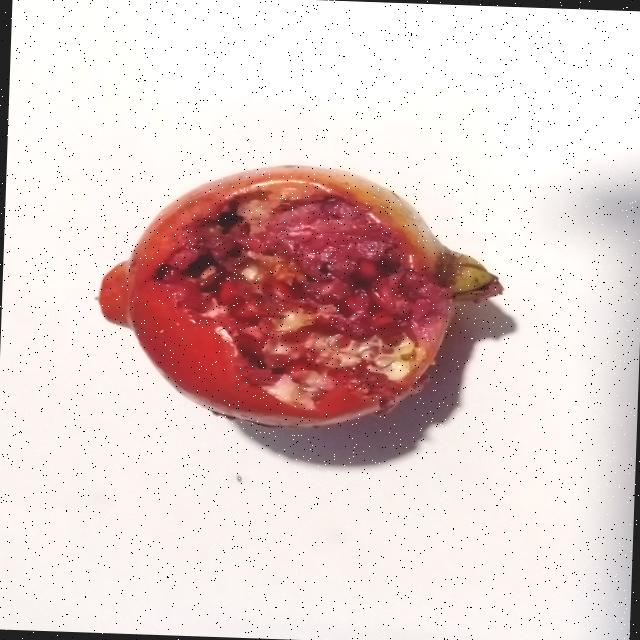Rotten: (85, 154, 512, 436)
